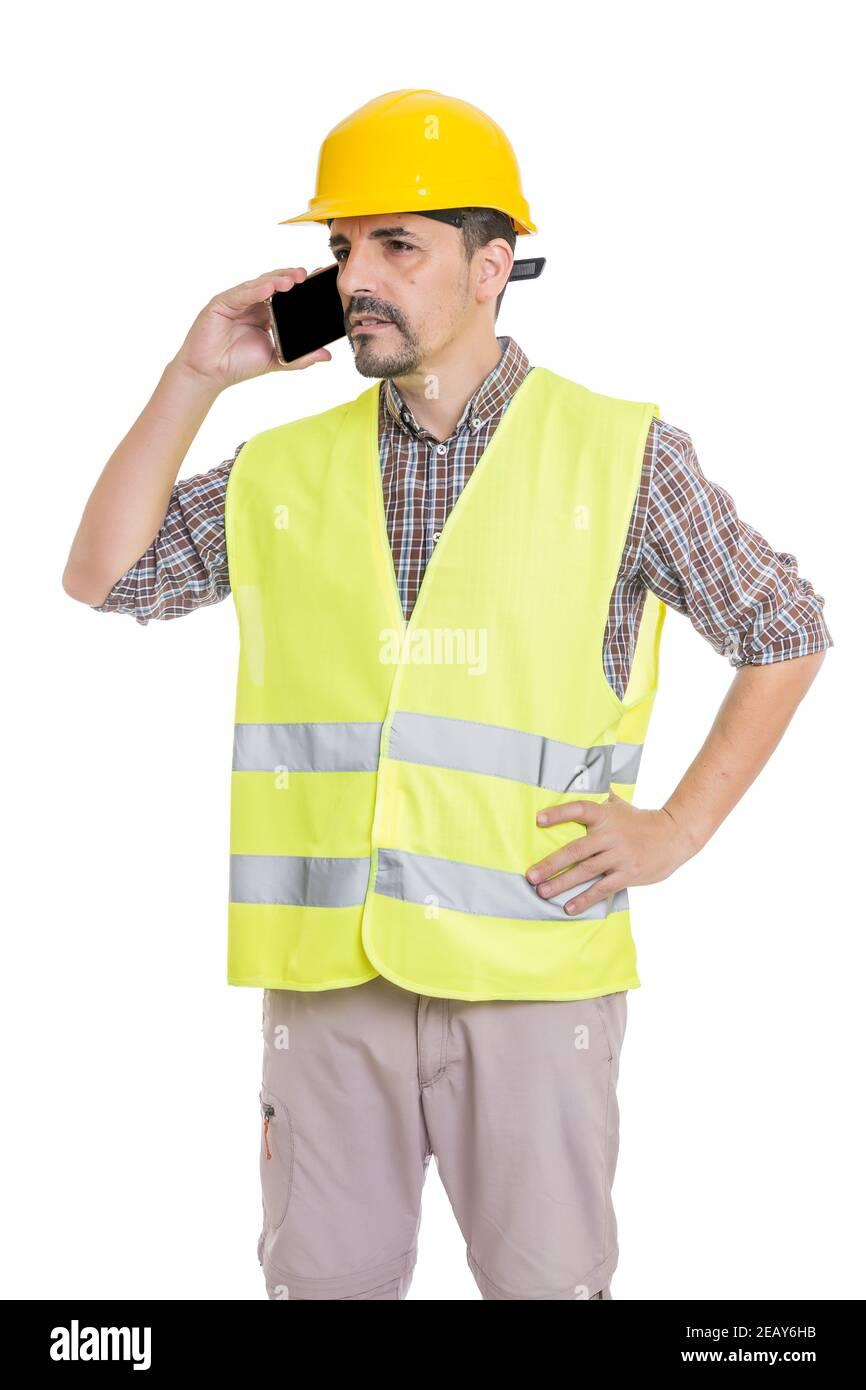hat: (268, 64, 554, 288)
vest: (168, 291, 734, 1104)
